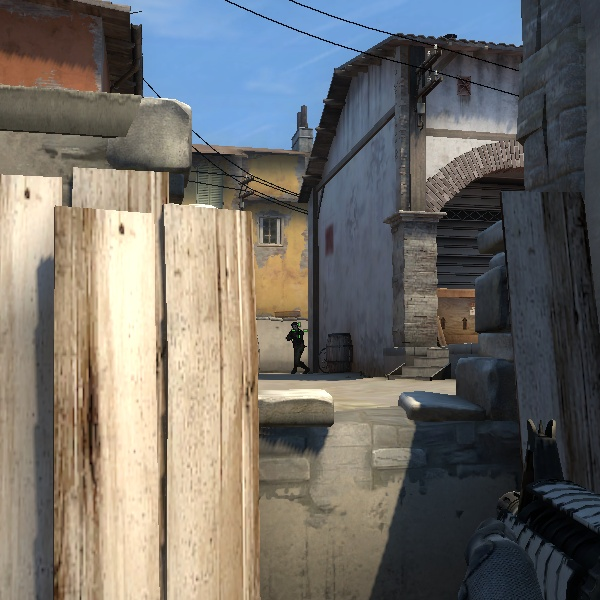ct_body: (283, 316, 306, 374)
